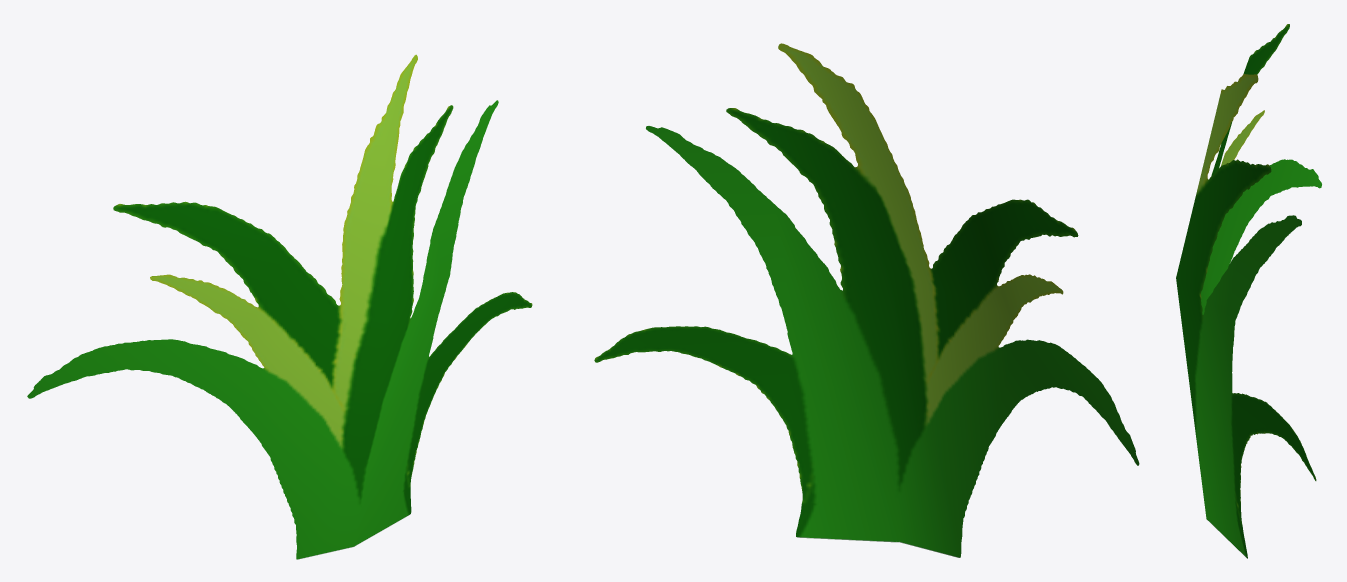
File: SM_Grass_02.fbx
The picture shows the model from 3 angles, left to right: view 1: azimuth 30°, elevation 25°; view 2: azimuth 150°, elevation 25°; view 3: azimuth 270°, elevation 25°; orthographic projection. The views are drawn at different scales.
Visible parts, largest first — view 1: SM_Grass_02; view 2: SM_Grass_02; view 3: SM_Grass_02.
Part boxes in pixels (x1,y1,x2,y2): SM_Grass_02: (27, 54, 532, 559); SM_Grass_02: (594, 43, 1139, 557); SM_Grass_02: (1176, 24, 1321, 558).
Size of the model in its own units: 11.3 by 10.09 by 2.73.
